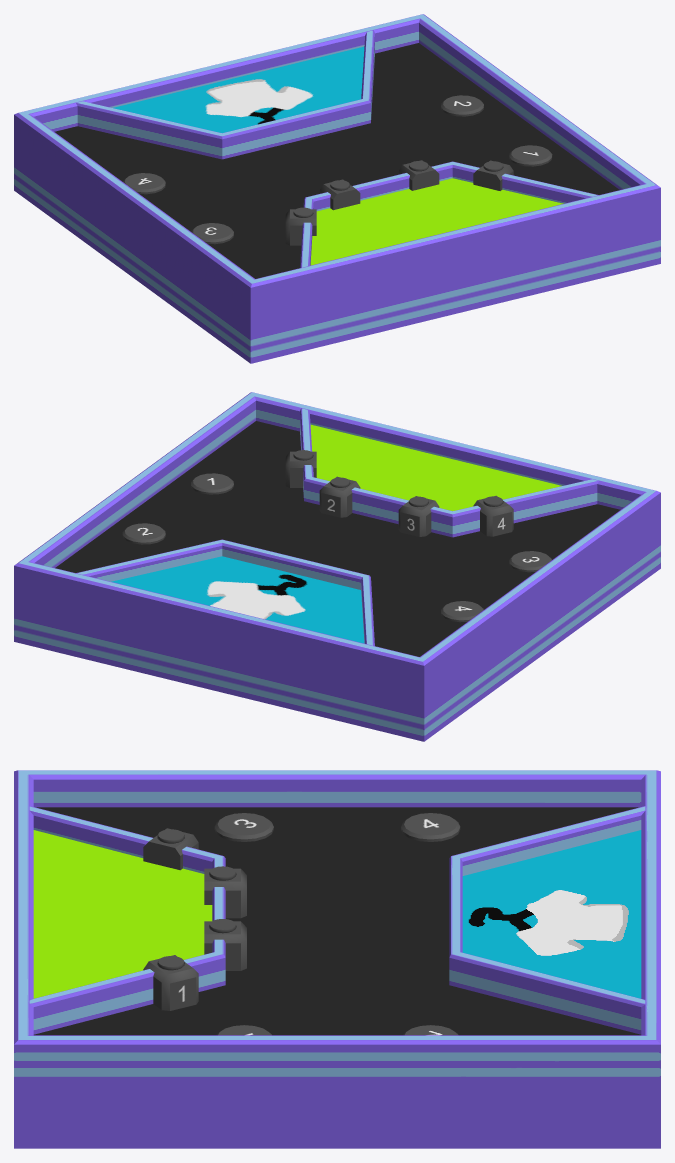
File: arenaPregame.fbx
The picture shows the model from 3 angles, top to bottom: view 1: azimuth 30°, elevation 25°; view 2: azimuth 150°, elevation 25°; view 3: azimuth 270°, elevation 25°; orthographic projection. The views are drawn at different scales.
Parts seen in each view (by area): view 1: walls.001, floor.001, dropzoneCosmetics, dropzoneReadyUp, spawn pads, statusStands, statusBulbs; view 2: walls.001, floor.001, dropzoneCosmetics, dropzoneReadyUp, statusStands, spawn pads, statusBulbs; view 3: walls.001, floor.001, dropzoneCosmetics, dropzoneReadyUp, statusStands, spawn pads, statusBulbs.
Part boxes in pixels (x1,y1,x2,y2): walls.001: (14, 14, 660, 363); floor.001: (54, 43, 619, 278); dropzoneCosmetics: (113, 46, 364, 132); dropzoneReadyUp: (310, 178, 563, 265); spawn pads: (123, 95, 552, 244); statusStands: (285, 160, 513, 245); statusBulbs: (293, 161, 503, 217); walls.001: (14, 392, 660, 741); floor.001: (55, 421, 620, 656); dropzoneCosmetics: (111, 556, 364, 643); dropzoneReadyUp: (310, 424, 561, 510); statusStands: (285, 451, 513, 536); spawn pads: (122, 473, 551, 622); statusBulbs: (293, 450, 503, 507); walls.001: (14, 770, 660, 1148); floor.001: (34, 807, 640, 1035); dropzoneCosmetics: (462, 830, 641, 998); dropzoneReadyUp: (33, 830, 212, 998); statusStands: (143, 828, 246, 1010); spawn pads: (214, 813, 460, 1035); statusBulbs: (157, 829, 236, 970).
Bounding box in the file's own units: 276 × 53.54 × 276.
